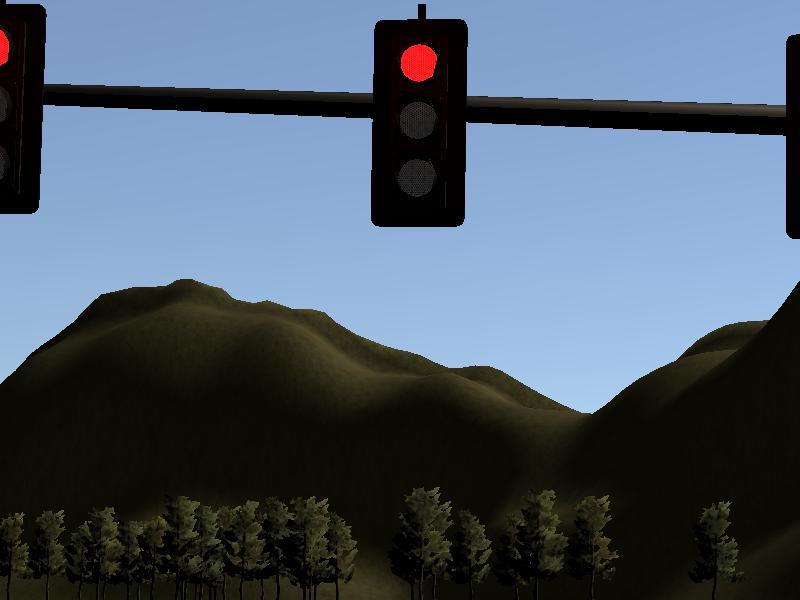Red: (375, 21, 464, 220), (1, 4, 39, 212)
